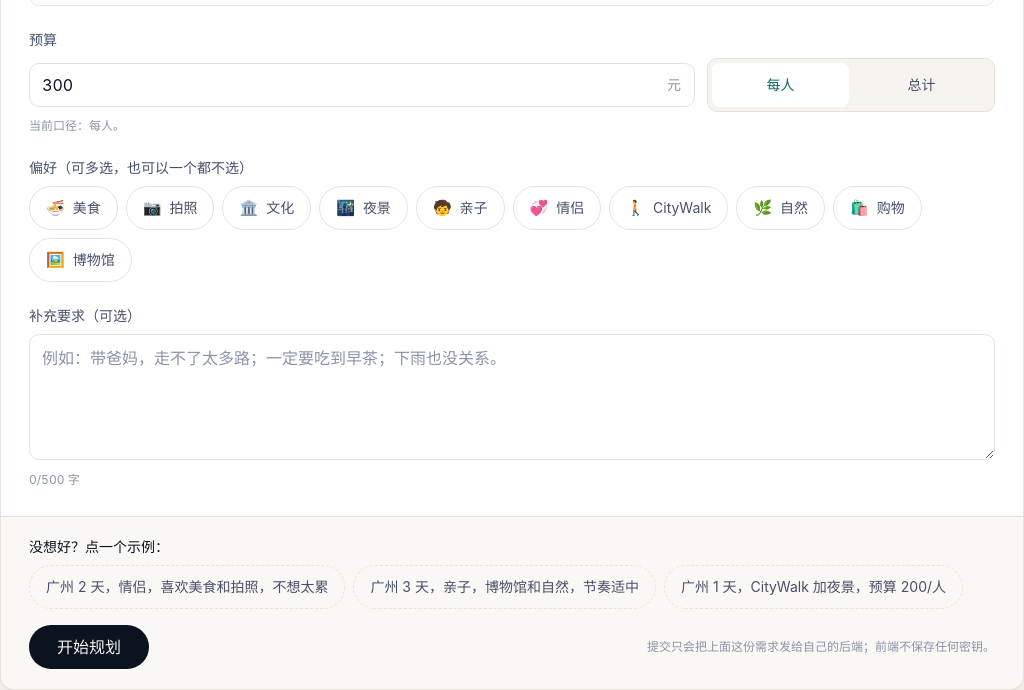
Test: 提交后的进度流 › 订阅后端给的 stream_url，并先显示等待态
(page scrolled)
Click the button "开始规划".
click(89, 647)  # box 29,625 -> 149,669
(page scrolled)
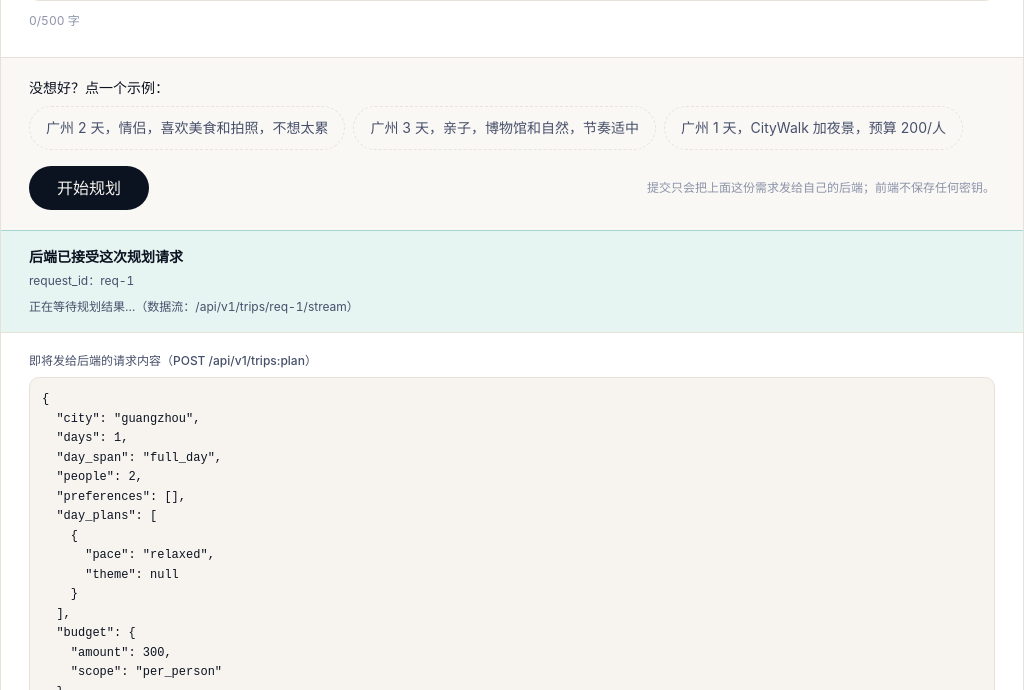
Expected: the text "正在等待规划结果…（数据流：/api/v1/trips/req-1/stream）" is shown, 29,299 -> 359,314
